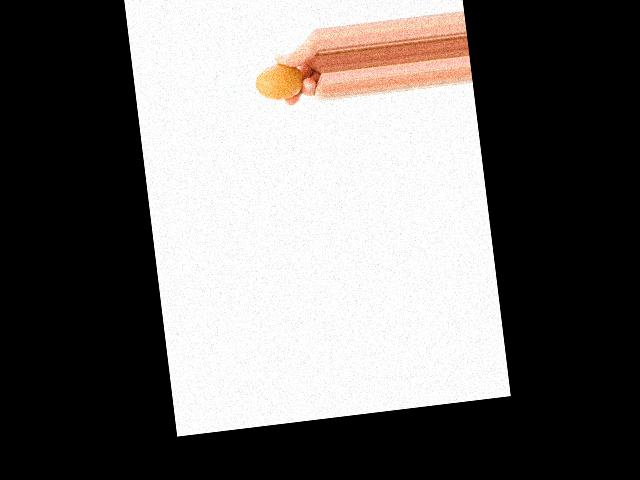egg: (253, 61, 304, 103)
